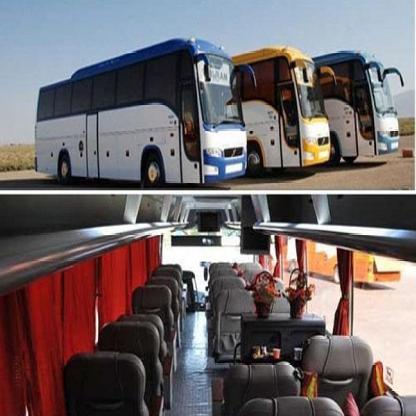Bus: (30, 46, 251, 186), (226, 44, 333, 174), (310, 49, 397, 158)
